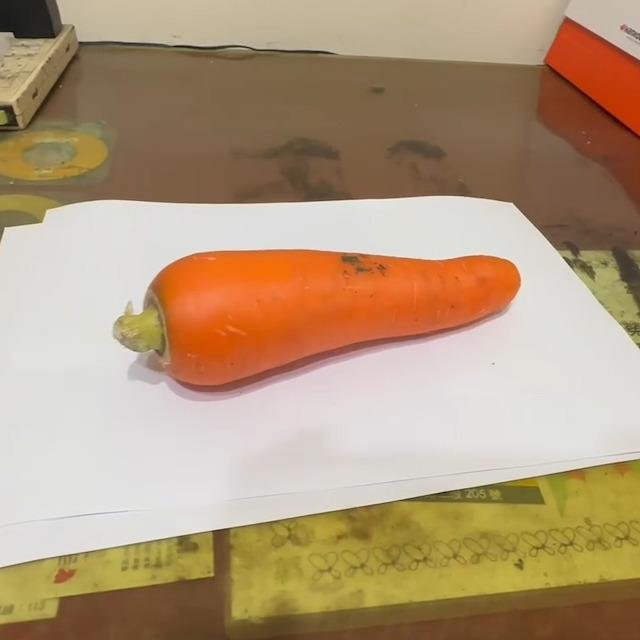carrot: (105, 245, 527, 390)
